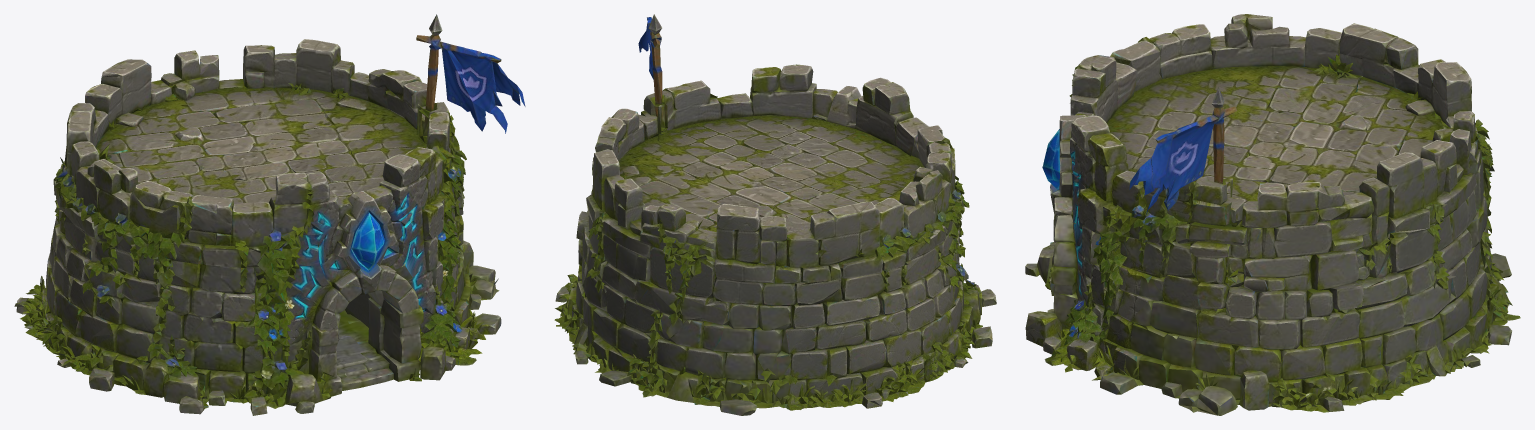
Rendered from outpost_ruin.glb.
The picture shows the model from 3 angles, left to right: view 1: azimuth 30°, elevation 25°; view 2: azimuth 150°, elevation 25°; view 3: azimuth 270°, elevation 25°; orthographic projection. The views are drawn at different scales.
Size of the model in its own units: 1.89 by 1.21 by 1.82.
Materials: 1 (1 with a texture image).
